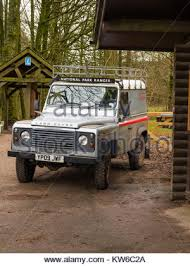Vehicle: (4, 67, 152, 189)
